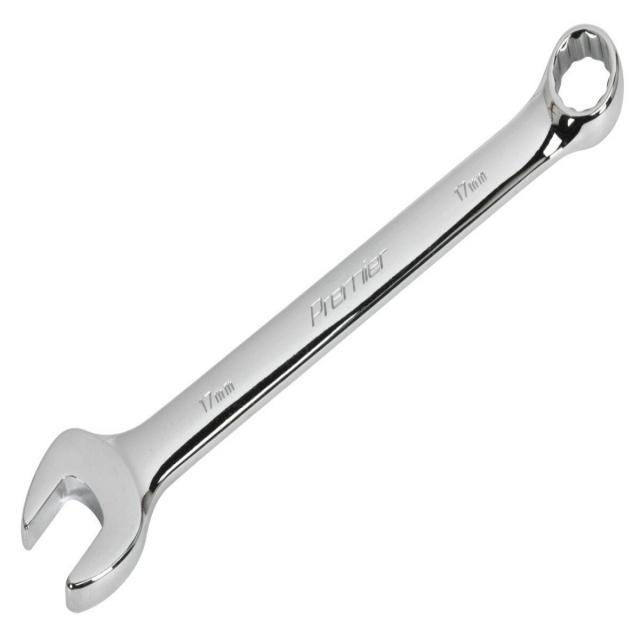wrench: (18, 21, 625, 619)
